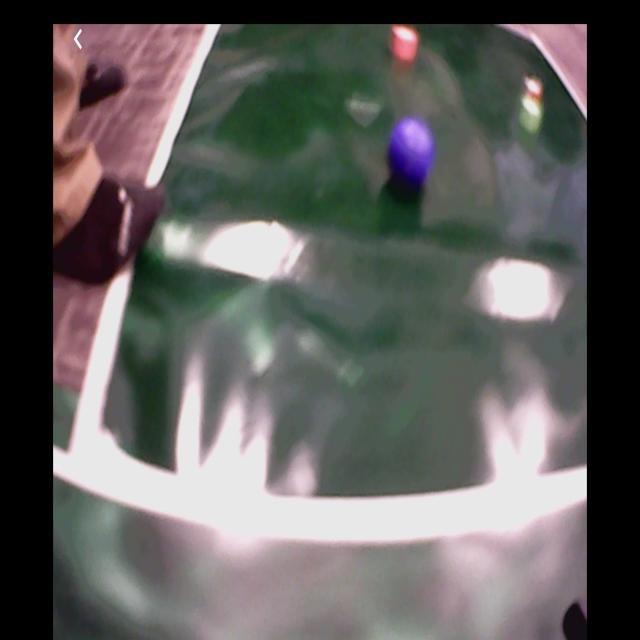ball: (390, 121, 435, 184)
